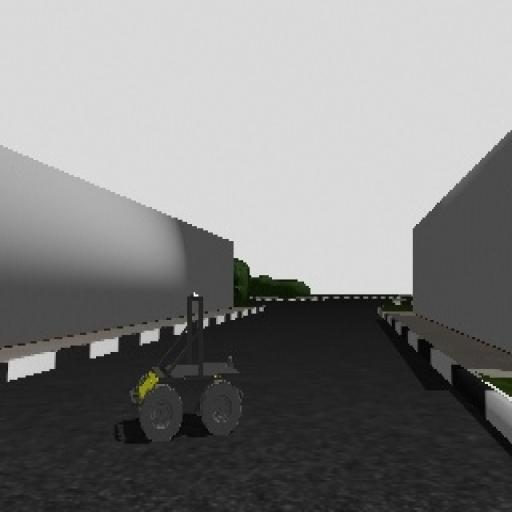huskya200: (126, 277, 249, 466)
